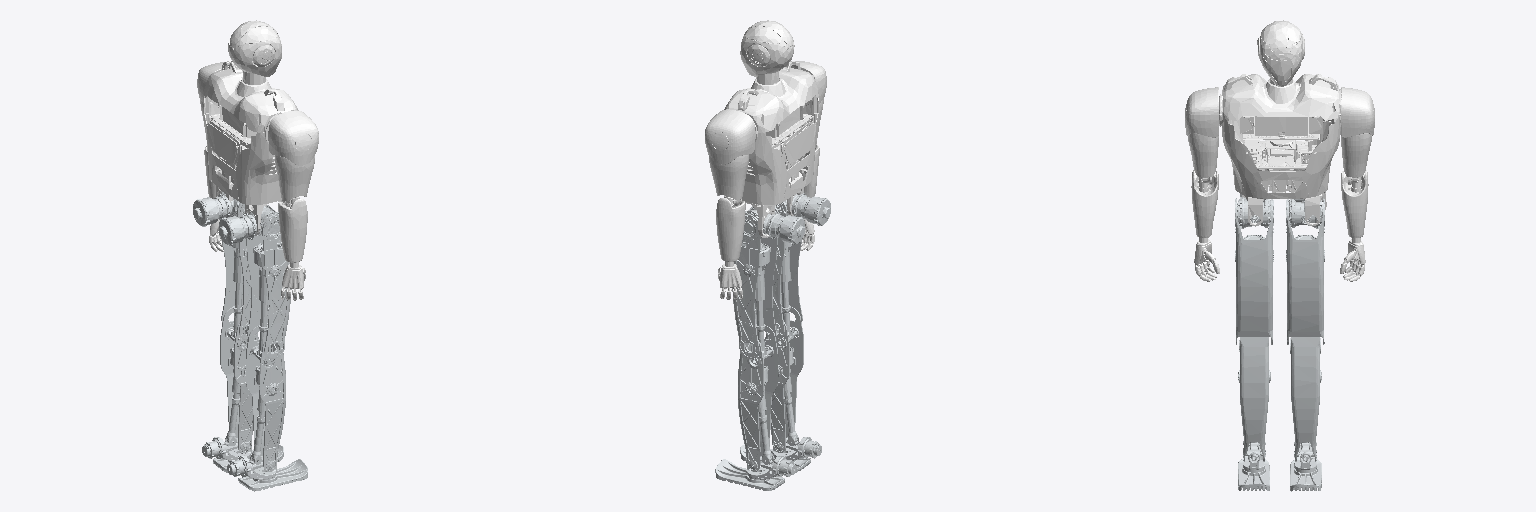
robot.urdf — jump_robot:
<?xml version="1.0" encoding="utf-8"?>
<!-- This URDF was automatically created by SolidWorks to URDF Exporter! Originally created by [author] ([email redacted]) 
     Commit Version: 1.6.0-1-g15f4949  Build Version: 1.6.7594.29634
     For more information, please see http://wiki.ros.org/sw_urdf_exporter -->
<robot
  name="jump_robot">
  <link
    name="trunk">
    <inertial>
      <origin
        xyz="-0.002531 -0.0059537 0.089042"
        rpy="0 0 0" />
      <mass
        value="20.9913292790793" />
      <inertia
        ixx="0.124208103347896"
        ixy="-9.59187941607576E-05"
        ixz="0.000364518209294849"
        iyy="0.0514747095206283"
        iyz="-1.571792289308E-05"
        izz="0.126836649722406" />
    </inertial>
    <visual>
      <origin
        xyz="0 0 0"
        rpy="0 0 0" />
      <geometry>
        <mesh
          filename="../meshes/trunk.STL" />
      </geometry>
      <material
        name="">
        <color
          rgba="1 1 1 1" />
      </material>
    </visual>
    <collision>
      <origin rpy="0 0 0" xyz="0. 0. 0."/>
      <geometry>
        <sphere radius="0.25"/>
      </geometry>
    </collision>
  </link>
  <link
    name="arm_left">
    <inertial>
      <origin
        xyz="0.171298707641061 0.000442727912780294 0.00603781286262239"
        rpy="0 0 0" />
      <mass
        value="1.52221608379121" />
      <inertia
        ixx="0.00234673874300324"
        ixy="-3.97823539265063E-05"
        ixz="9.20796492830591E-05"
        iyy="0.00356004819887361"
        iyz="5.94429533538155E-07"
        izz="0.00422659743271191" />
    </inertial>
    <visual>
      <origin
        xyz="0 0 0"
        rpy="0 0 0" />
      <geometry>
        <mesh
          filename="../meshes/arm_left.STL" />
      </geometry>
      <material
        name="">
        <color
          rgba="1 1 1 1" />
      </material>
    </visual>
    <!--collision>
      <origin
        xyz="0 0 0"
        rpy="0 0 0" />
      <geometry>
        <mesh
          filename="../meshes/arm_left.STL" />
      </geometry>
    </collision-->
  </link>
  <joint
    name="shoulder_left"
    type="revolute">
    <origin
      xyz="0.0022528 0.253 0.16485"
      rpy="-1.5708 1.5671 3.1416" />
    <parent
      link="trunk" />
    <child
      link="arm_left" />
    <axis
      xyz="0 0 1" />
    <limit
      lower="-0.6981"
      upper="3.14"
      effort="280"
      velocity="23.14" />
  </joint>
  <link
    name="arm_right">
    <inertial>
      <origin
        xyz="0.170556178695416 0.000375210079987011 -0.00633364062334763"
        rpy="0 0 0" />
      <mass
        value="1.5289942221345" />
      <inertia
        ixx="0.00234262083840885"
        ixy="-3.91982024555757E-05"
        ixz="-9.14879736122876E-05"
        iyy="0.00355935686991188"
        iyz="9.72152961586076E-07"
        izz="0.00422289414668557" />
    </inertial>
    <visual>
      <origin
        xyz="0 0 0"
        rpy="0 0 0" />
      <geometry>
        <mesh
          filename="../meshes/arm_right.STL" />
      </geometry>
      <material
        name="">
        <color
          rgba="1 1 1 1" />
      </material>
    </visual>
    <!--collision>
      <origin
        xyz="0 0 0"
        rpy="0 0 0" />
      <geometry>
        <mesh
          filename="../meshes/arm_right.STL" />
      </geometry>
    </collision-->
  </link>
  <joint
    name="shoulder_right"
    type="revolute">
    <origin
      xyz="0.0022528 -0.26199 0.16485"
      rpy="-1.5708 1.5671 3.1416" />
    <parent
      link="trunk" />
    <child
      link="arm_right" />
    <axis
      xyz="0 0 1" />
    <limit
      lower="-0.6981"
      upper="3.14"
      effort="280"
      velocity="23.14" />
  </joint>
  <link
    name="hip_left">
    <inertial>
      <origin
        xyz="0.000264789340324034 0.0022780534399255 -0.0517419329764954"
        rpy="0 0 0" />
      <mass
        value="2.77226288578825" />
      <inertia
        ixx="0.00230494842187513"
        ixy="-1.09491921692072E-06"
        ixz="-1.89821584403495E-06"
        iyy="0.00278714725530115"
        iyz="1.49357926969216E-05"
        izz="0.00265411614795581" />
    </inertial>
    <visual>
      <origin
        xyz="0 0 0"
        rpy="0 0 0" />
      <geometry>
        <mesh
          filename="../meshes/hip_left.STL" />
      </geometry>
      <material
        name="">
        <color
          rgba="0.898039215686275 0.917647058823529 0.929411764705882 1" />
      </material>
    </visual>
    <!--collision>
      <origin
        xyz="0 0 0"
        rpy="0 0 0" />
      <geometry>
        <mesh
          filename="../meshes/hip_left.STL" />
      </geometry>
    </collision-->
  </link>
  <joint
    name="hip_x_left"
    type="revolute">
    <origin
      xyz="-0.010946 0.083004 -0.223"
      rpy="-2.749 1.565 -2.749" />
    <parent
      link="trunk" />
    <child
      link="hip_left" />
    <axis
      xyz="0 0 1" />
    <limit
      lower="-0.1745"
      upper="0.1745"
      effort="280"
      velocity="23.14" />
  </joint>
  <link
    name="thigh_left">
    <inertial>
      <origin
        xyz="0.204287897160973 0.0124777472765908 0.000500837368540882"
        rpy="0 0 0" />
      <mass
        value="2.24457303787033" />
      <inertia
        ixx="0.00442080407973017"
        ixy="-0.000245782569422698"
        ixz="4.50972349332155E-05"
        iyy="0.0213102863059659"
        iyz="3.30972534771016E-06"
        izz="0.0200095245878174" />
    </inertial>
    <visual>
      <origin
        xyz="0 0 0"
        rpy="0 0 0" />
      <geometry>
        <mesh
          filename="../meshes/thigh_left.STL" />
      </geometry>
      <material
        name="">
        <color
          rgba="0.898039215686275 0.917647058823529 0.929411764705882 1" />
      </material>
    </visual>
    <!--collision>
      <origin
        xyz="0 0 0"
        rpy="0 0 0" />
      <geometry>
        <mesh
          filename="../meshes/thigh_left.STL" />
      </geometry>
    </collision-->
  </link>
  <joint
    name="hip_y_left"
    type="revolute">
    <origin
      xyz="0 0 0"
      rpy="1.5708 0 0" />
    <parent
      link="hip_left" />
    <child
      link="thigh_left" />
    <axis
      xyz="0 0 1" />
    <limit
      lower="-0.5235"
      upper="1.7453"
      effort="280"
      velocity="23.14" />
  </joint>
  <link
    name="calf_left">
    <inertial>
      <origin
        xyz="0.181032783526921 0.00565154355776892 -0.000982461833743953"
        rpy="0 0 0" />
      <mass
        value="1.75714584456127" />
      <inertia
        ixx="0.00244024177618532"
        ixy="4.65980519825088E-05"
        ixz="4.3757807711868E-06"
        iyy="0.0176434834993722"
        iyz="6.29874205032996E-07"
        izz="0.0171561337463444" />
    </inertial>
    <visual>
      <origin
        xyz="0 0 0"
        rpy="0 0 0" />
      <geometry>
        <mesh
          filename="../meshes/calf_left.STL" />
      </geometry>
      <material
        name="">
        <color
          rgba="0.898039215686275 0.917647058823529 0.929411764705882 1" />
      </material>
    </visual>
    <!--collision>
      <origin
        xyz="0 0 0"
        rpy="0 0 0" />
      <geometry>
        <mesh
          filename="../meshes/calf_left.STL" />
      </geometry>
    </collision-->
  </link>
  <joint
    name="knee_left"
    type="revolute">
    <origin
      xyz="0.45 0 0"
      rpy="0 0.0022222 0.0011465" />
    <parent
      link="thigh_left" />
    <child
      link="calf_left" />
    <axis
      xyz="0 0 1" />
    <limit
      lower="-2.0943"
      upper="0.1745"
      effort="280"
      velocity="23.14" />
  </joint>
  <link
    name="ankle_left">
    <inertial>
      <origin
        xyz="-0.000291440779461756 -0.0684593321296307 -0.000437809242085849"
        rpy="0 0 0" />
      <mass
        value="0.426454573230445" />
      <inertia
        ixx="0.000255094327728725"
        ixy="-1.25868931748423E-06"
        ixz="-2.10382440379478E-07"
        iyy="0.000154854283488368"
        iyz="1.04672180226572E-07"
        izz="0.000252474733936312" />
    </inertial>
    <visual>
      <origin
        xyz="0 0 0"
        rpy="0 0 0" />
      <geometry>
        <mesh
          filename="../meshes/ankle_left.STL" />
      </geometry>
      <material
        name="">
        <color
          rgba="0.898039215686275 0.917647058823529 0.929411764705882 1" />
      </material>
    </visual>
    <!--collision>
      <origin
        xyz="0 0 0"
        rpy="0 0 0" />
      <geometry>
        <mesh
          filename="../meshes/ankle_left.STL" />
      </geometry>
    </collision-->
  </link>
  <joint
    name="ankle_y_left"
    type="revolute">
    <origin
      xyz="0.45 0 0"
      rpy="0 0 -2.4552E-05" />
    <parent
      link="calf_left" />
    <child
      link="ankle_left" />
    <axis
      xyz="0 0 1" />
    <limit
      lower="-0.8726"
      upper="0.9948"
      effort="280"
      velocity="23.14" />
  </joint>
  <link
    name="foot_left">
    <inertial>
      <origin
        xyz="0.0590531832316799 -0.000380314981998697 0.0199411907634456"
        rpy="0 0 0" />
      <mass
        value="1.17881865429034" />
      <inertia
        ixx="0.00491833296516079"
        ixy="-4.29169528436321E-06"
        ixz="4.81264608096593E-05"
        iyy="0.00417461362283326"
        iyz="4.80973862828783E-05"
        izz="0.000947864307528784" />
    </inertial>
    <visual>
      <origin
        xyz="0 0 0"
        rpy="0 0 0" />
      <geometry>
        <mesh
          filename="../meshes/foot_left.STL" />
      </geometry>
      <material
        name="">
        <color
          rgba="0.898039215686275 0.917647058823529 0.929411764705882 1" />
      </material>
    </visual>
    <collision>
      <origin
        xyz="0 0 0"
        rpy="0 0 0" />
      <geometry>
        <!-- <box size="0.1500000 0.0750000 0.01000000" /> -->
        <mesh filename="../meshes/foot_left.STL"/>
      </geometry>
    </collision>
  </link>
  <joint
    name="ankle_x_left"
    type="revolute">
    <origin
      xyz="0 0 0"
      rpy="-1.5708 0.018109 0" />
    <parent
      link="ankle_left" />
    <child
      link="foot_left" />
    <axis
      xyz="0 0 1" />
    <limit
      lower="-0.6981"
      upper="0.5235"
      effort="280"
      velocity="23.14" />
  </joint>
  <link
    name="hip_right">
    <inertial>
      <origin
        xyz="-3.77763681047583E-06 -0.0022788213769698 -0.0517485653331722"
        rpy="0 0 0" />
      <mass
        value="2.77194420190747" />
      <inertia
        ixx="0.00230482428849934"
        ixy="-6.70310353065572E-08"
        ixz="-3.70150029360013E-08"
        iyy="0.00278711231133955"
        iyz="-1.49675088110476E-05"
        izz="0.00265407493550081" />
    </inertial>
    <visual>
      <origin
        xyz="0 0 0"
        rpy="0 0 0" />
      <geometry>
        <mesh
          filename="../meshes/hip_right.STL" />
      </geometry>
      <material
        name="">
        <color
          rgba="0.898039215686275 0.917647058823529 0.929411764705882 1" />
      </material>
    </visual>
    <!--collision>
      <origin
        xyz="0 0 0"
        rpy="0 0 0" />
      <geometry>
        <mesh
          filename="../meshes/hip_right.STL" />
      </geometry>
    </collision-->
  </link>
  <joint
    name="hip_x_right"
    type="revolute">
    <origin
      xyz="-0.010946 -0.091996 -0.223"
      rpy="0 1.5708 0" />
    <parent
      link="trunk" />
    <child
      link="hip_right" />
    <axis
      xyz="0 0 -1" />
    <limit
      lower="-0.1745"
      upper="0.1745"
      effort="280"
      velocity="23.14" />
  </joint>
  <link
    name="thigh_right">
    <inertial>
      <origin
        xyz="0.204159056818807 0.0124821544665048 -0.000563980377692605"
        rpy="0 0 0" />
      <mass
        value="2.24418551888605" />
      <inertia
        ixx="0.00442149882840375"
        ixy="-0.000242061145095149"
        ixz="-3.25583828989521E-05"
        iyy="0.0213372609961473"
        iyz="-1.16736435452894E-06"
        izz="0.02003601312423" />
    </inertial>
    <visual>
      <origin
        xyz="0 0 0"
        rpy="0 0 0" />
      <geometry>
        <mesh
          filename="../meshes/thigh_right.STL" />
      </geometry>
      <material
        name="">
        <color
          rgba="0.898039215686275 0.917647058823529 0.929411764705882 1" />
      </material>
    </visual>
    <!--collision>
      <origin
        xyz="0 0 0"
        rpy="0 0 0" />
      <geometry>
        <mesh
          filename="../meshes/thigh_right.STL" />
      </geometry>
    </collision-->
  </link>
  <joint
    name="hip_y_right"
    type="revolute">
    <origin
      xyz="0 0 0"
      rpy="1.5708 0.0053659 0.0022223" />
    <parent
      link="hip_right" />
    <child
      link="thigh_right" />
    <axis
      xyz="0 0 1" />
    <limit
      lower="-0.5235"
      upper="1.7453"
      effort="280"
      velocity="23.14" />
  </joint>
  <link
    name="calf_right">
    <inertial>
      <origin
        xyz="0.182607647628176 0.00618307415812686 0.000139878399133167"
        rpy="0 0 0" />
      <mass
        value="1.77439209281503" />
      <inertia
        ixx="0.0024374812318937"
        ixy="1.28737896073566E-05"
        ixz="-1.9935042795855E-06"
        iyy="0.0176413056387629"
        iyz="-1.02204152230495E-06"
        izz="0.0171504340007012" />
    </inertial>
    <visual>
      <origin
        xyz="0 0 0"
        rpy="0 0 0" />
      <geometry>
        <mesh
          filename="../meshes/calf_right.STL" />
      </geometry>
      <material
        name="">
        <color
          rgba="0.898039215686275 0.917647058823529 0.929411764705882 1" />
      </material>
    </visual>
    <!--collision>
      <origin
        xyz="0 0 0"
        rpy="0 0 0" />
      <geometry>
        <mesh
          filename="../meshes/calf_right.STL" />
      </geometry>
    </collision-->
  </link>
  <joint
    name="knee_right"
    type="revolute">
    <origin
      xyz="0.45 0 0"
      rpy="0 -0.0022222 -0.0010806" />
    <parent
      link="thigh_right" />
    <child
      link="calf_right" />
    <axis
      xyz="0 0 1" />
    <limit
      lower="-2.0943"
      upper="0.1745"
      effort="280"
      velocity="23.14" />
  </joint>
  <link
    name="ankle_right">
    <inertial>
      <origin
        xyz="-0.000291429066066343 -0.0684593541528584 0.000437807503005816"
        rpy="0 0 0" />
      <mass
        value="0.426454169497049" />
      <inertia
        ixx="0.000255093687238287"
        ixy="-1.25880429153223E-06"
        ixz="2.10266881314114E-07"
        iyy="0.000154854161809243"
        iyz="-1.04747366225109E-07"
        izz="0.000252474141004131" />
    </inertial>
    <visual>
      <origin
        xyz="0 0 0"
        rpy="0 0 0" />
      <geometry>
        <mesh
          filename="../meshes/ankle_right.STL" />
      </geometry>
      <material
        name="">
        <color
          rgba="0.898039215686275 0.917647058823529 0.929411764705882 1" />
      </material>
    </visual>
    <!--collision>
      <origin
        xyz="0 0 0"
        rpy="0 0 0" />
      <geometry>
        <mesh
          filename="../meshes/ankle_right.STL" />
      </geometry>
    </collision-->
  </link>
  <joint
    name="ankle_y_right"
    type="revolute">
    <origin
      xyz="0.449 0 0"
      rpy="0 0 0.0022026" />
    <parent
      link="calf_right" />
    <child
      link="ankle_right" />
    <axis
      xyz="0 0 1" />
    <limit
      lower="-0.8726"
      upper="0.9948"
      effort="280"
      velocity="23.14" />
  </joint>
  <link
    name="foot_right">
    <inertial>
      <origin
        xyz="0.0590550454769554 0.000380265171033733 0.0199340670722154"
        rpy="0 0 0" />
      <mass
        value="1.17888308619328" />
      <inertia
        ixx="0.00491831496055339"
        ixy="4.3092452786695E-06"
        ixz="4.80811366493119E-05"
        iyy="0.00417457553264411"
        iyz="-4.8098195438002E-05"
        izz="0.000947871402094289" />
    </inertial>
    <visual>
      <origin
        xyz="0 0 0"
        rpy="0 0 0" />
      <geometry>
        <mesh
          filename="../meshes/foot_right.STL" />
      </geometry>
      <material
        name="">
        <color
          rgba="0.898039215686275 0.917647058823529 0.929411764705882 1" />
      </material>
    </visual>
    <collision>
      <origin
        xyz="0 0 0"
        rpy="0 0 0" />
      <geometry>
        <!-- <box size="0.1500000 0.0750000 0.01000000" /> -->
        <mesh filename="../meshes/foot_right.STL" />
      </geometry>
    </collision>
  </link>
  <joint
    name="ankle_x_right"
    type="revolute">
    <origin
      xyz="0 0 0"
      rpy="-1.5708 -0.022852 0" />
    <parent
      link="ankle_right" />
    <child
      link="foot_right" />
    <axis
      xyz="0 0 -1" />
    <limit
      lower="-0.6981"
      upper="0.5235"
      effort="280"
      velocity="23.14" />
  </joint>
</robot>

--- What the picture shows (computed from the rendered views, not written in the file) ---
The picture shows the robot from 3 angles, left to right: view 1: azimuth 30°, elevation 25°; view 2: azimuth 150°, elevation 25°; view 3: azimuth 270°, elevation 25°; orthographic projection.
Model jump_robot with 13 links and 12 joints (12 revolute), rooted at trunk, posed all joints at 0.
Visible links, largest first — view 1: trunk, arm_right, thigh_right, calf_right, calf_left, thigh_left, hip_right, foot_right, hip_left, arm_left; view 2: trunk, arm_left, thigh_left, calf_left, calf_right, thigh_right, hip_left, foot_left, arm_right, hip_right; view 3: trunk, arm_right, arm_left, thigh_right, thigh_left, calf_right, calf_left, foot_right, foot_left, hip_right, hip_left.
Link boxes in pixels (x1,y1,x2,y2): trunk: (204, 20, 298, 235); arm_right: (268, 111, 318, 300); thigh_right: (246, 214, 291, 358); calf_right: (246, 326, 285, 471); calf_left: (220, 307, 258, 452); thigh_left: (221, 192, 257, 340); hip_right: (219, 205, 280, 245); foot_right: (238, 455, 307, 491); hip_left: (193, 193, 244, 226); arm_left: (197, 62, 236, 251); trunk: (724, 20, 818, 237); arm_left: (705, 109, 755, 299); thigh_left: (732, 207, 777, 358); calf_left: (738, 326, 777, 471); calf_right: (765, 307, 803, 452); thigh_right: (765, 202, 802, 339); hip_left: (743, 206, 804, 244); foot_left: (715, 455, 784, 490); arm_right: (786, 61, 826, 250); hip_right: (775, 193, 830, 225); trunk: (1222, 20, 1340, 226); arm_right: (1185, 87, 1221, 281); arm_left: (1339, 87, 1374, 281); thigh_right: (1235, 198, 1273, 344); thigh_left: (1286, 198, 1324, 344); calf_right: (1238, 337, 1270, 461); calf_left: (1290, 337, 1324, 461); foot_right: (1238, 442, 1269, 490); foot_left: (1290, 442, 1321, 491); hip_right: (1235, 194, 1273, 228); hip_left: (1286, 199, 1324, 228).
Bounding box of the posed robot: 0.3298 × 0.6437 × 1.69 m (x, y, z).
Meshes: 13 distinct files referenced, 13 mesh visuals loaded (13 binary STL).